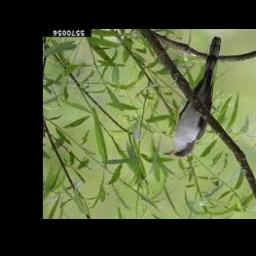Cuckoo: (165, 36, 222, 157)
